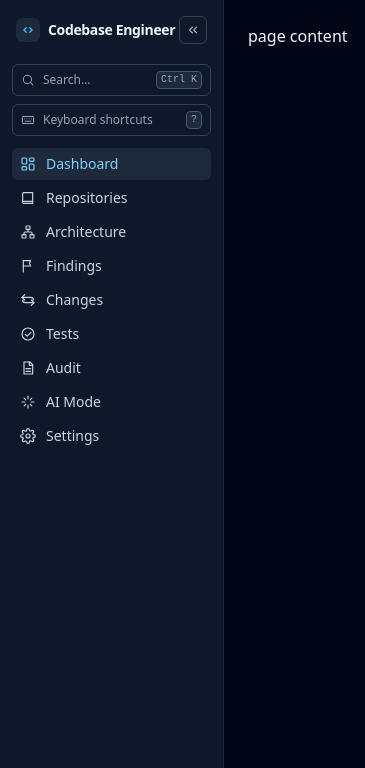
Test: NavShell sidebar collapse (Task #88) › expands again on a second click
This screenshot has width=365, height=768.
Click the button named "Collapse sidebar" at (193, 30), box x1=179 y1=16 x2=207 y2=44
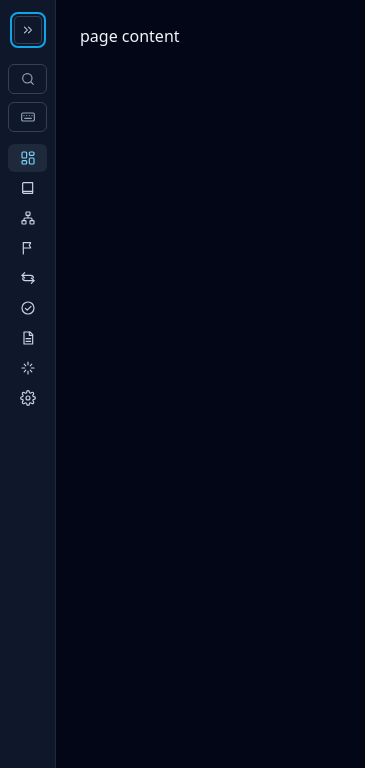
Click the button named "Expand sidebar" at (28, 30), box x1=14 y1=16 x2=42 y2=44
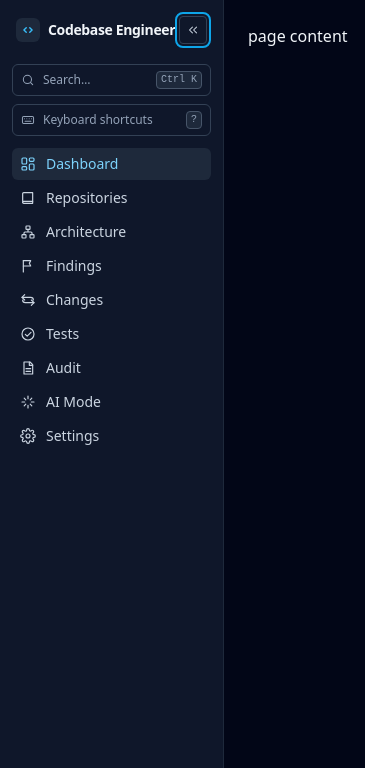
Expected: the text "Repositories" is shown, x1=46 y1=188 x2=128 y2=208
